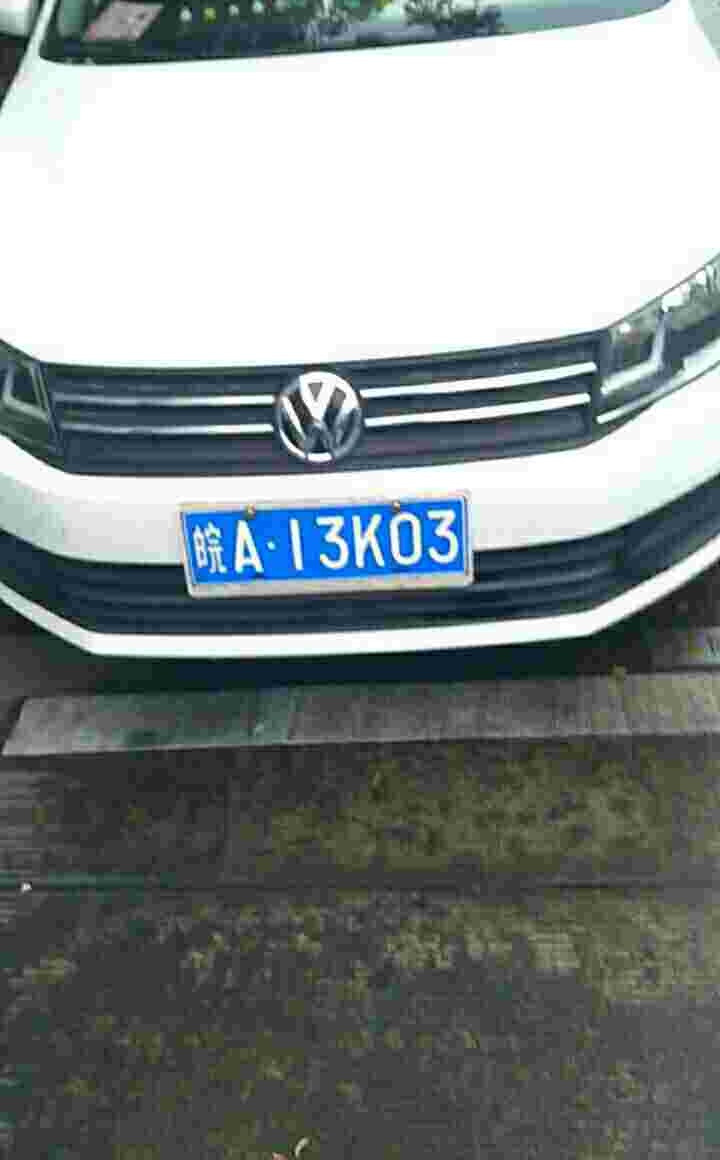plate: (184, 495, 476, 584)
